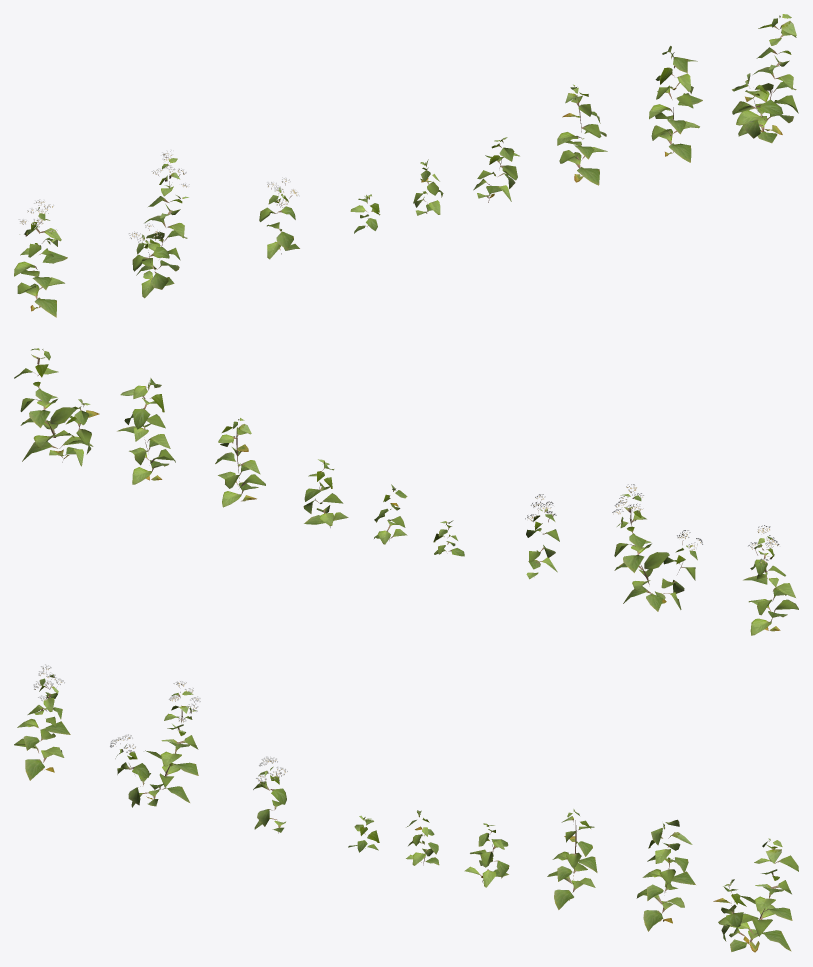
Rendered from shrub_01_lod1.glb.
3 views of the same model, one above another, from view 1: azimuth 30°, elevation 25°; view 2: azimuth 150°, elevation 25°; view 3: azimuth 330°, elevation 25° (orthographic). The views are drawn at different scales.
Parts seen in each view (by area): view 1: shrub_01_a; view 2: shrub_01_a; view 3: shrub_01_a.
Boxes of the visible parts, left/top/right/bottom form: shrub_01_a: left=14, top=14, right=798, bottom=317; shrub_01_a: left=14, top=348, right=798, bottom=635; shrub_01_a: left=14, top=664, right=798, bottom=952.
Bounding box in the file's own units: 2.59 × 0.404 × 0.2228.
1 material, 1 textured.
